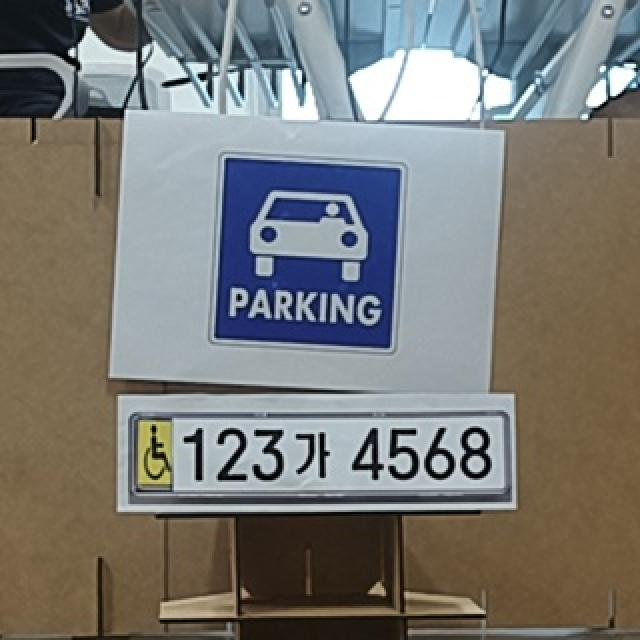disabled: (136, 421, 176, 488)
plate: (130, 412, 511, 498)
